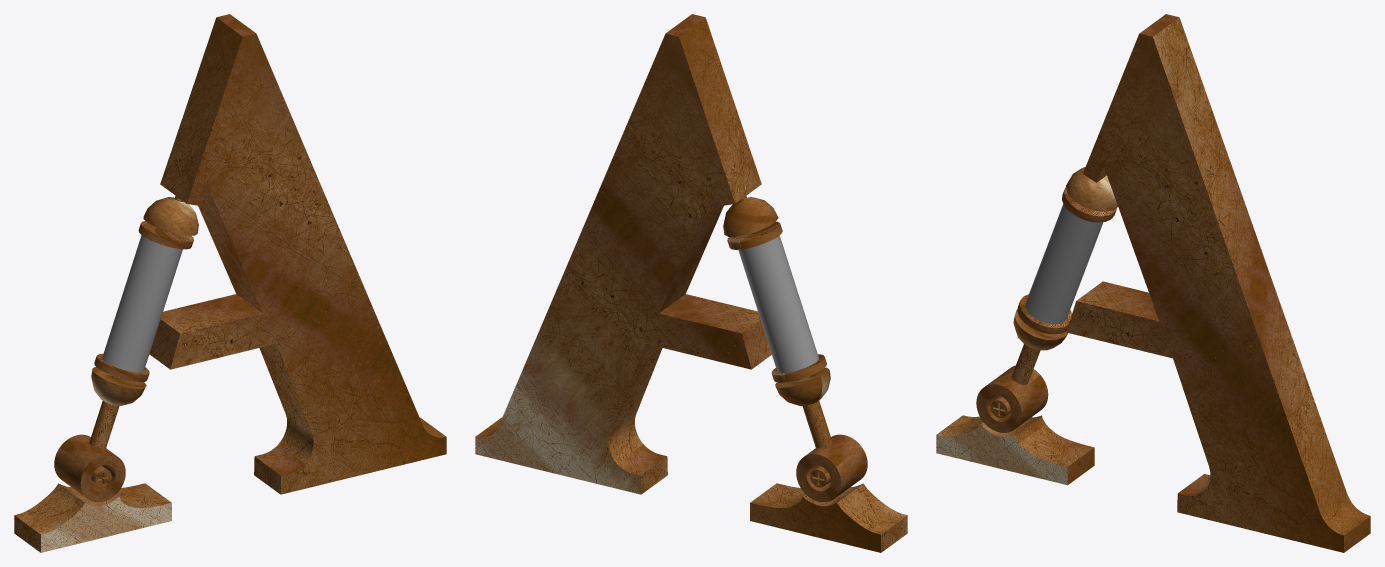
3 renders of one model, left to right at view 1: azimuth 30°, elevation 25°; view 2: azimuth 150°, elevation 25°; view 3: azimuth 330°, elevation 25°, orthographic.
Visible parts, largest first — view 1: A, Tube042, Y_Elements_029, Sphere_054, Sphere_059, Tube_380, Tube040, Tube044; view 2: A, Tube042, Y_Elements_029, Sphere_054, Sphere_059, Tube_380, Tube040, Tube044; view 3: A, Tube042, Y_Elements_029, Sphere_054, Sphere_059, Tube044, Tube040, Tube_380.
Part boxes in pixels (x1,y1,x2,y2): A: (14, 14, 446, 552); Tube042: (102, 235, 182, 372); Y_Elements_029: (54, 434, 125, 502); Sphere_054: (143, 197, 198, 235); Sphere_059: (91, 366, 146, 405); Tube_380: (89, 375, 127, 448); Tube040: (138, 221, 193, 249); Tube044: (94, 353, 149, 382); A: (475, 14, 907, 552); Tube042: (738, 235, 818, 373); Y_Elements_029: (796, 434, 867, 502); Sphere_054: (723, 197, 778, 236); Sphere_059: (775, 367, 830, 406); Tube_380: (796, 376, 832, 448); Tube040: (727, 221, 782, 249); Tube044: (771, 354, 826, 382); A: (936, 14, 1370, 552); Tube042: (1025, 204, 1103, 324); Y_Elements_029: (976, 365, 1048, 432); Sphere_054: (1066, 167, 1117, 211); Sphere_059: (1013, 309, 1068, 350); Tube044: (1017, 294, 1071, 334); Tube040: (1062, 187, 1116, 222); Tube_380: (1011, 344, 1040, 385).
Bounding box in the file's own units: 87.92 × 96.71 × 10.65.
Materials: 2 (1 with a texture image).
